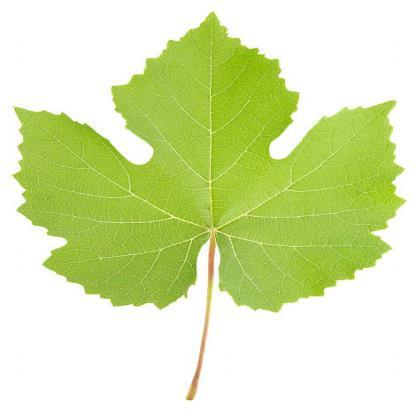grape leaf black rot: (3, 6, 404, 368)
